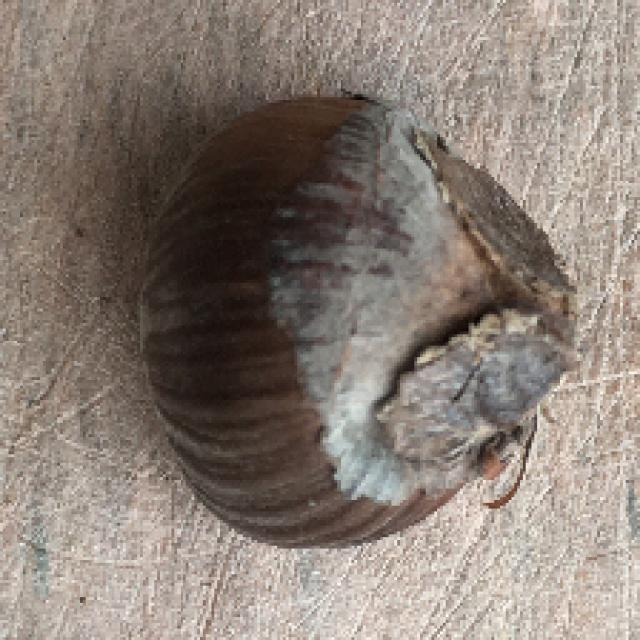damagedHazelnut: (111, 88, 603, 574)
